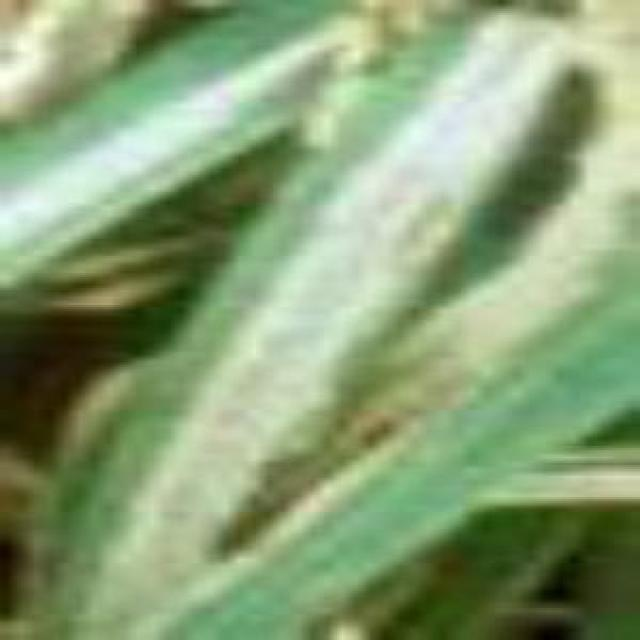Bacterial_Blight: (85, 4, 583, 640), (0, 0, 401, 265), (368, 104, 640, 429)
